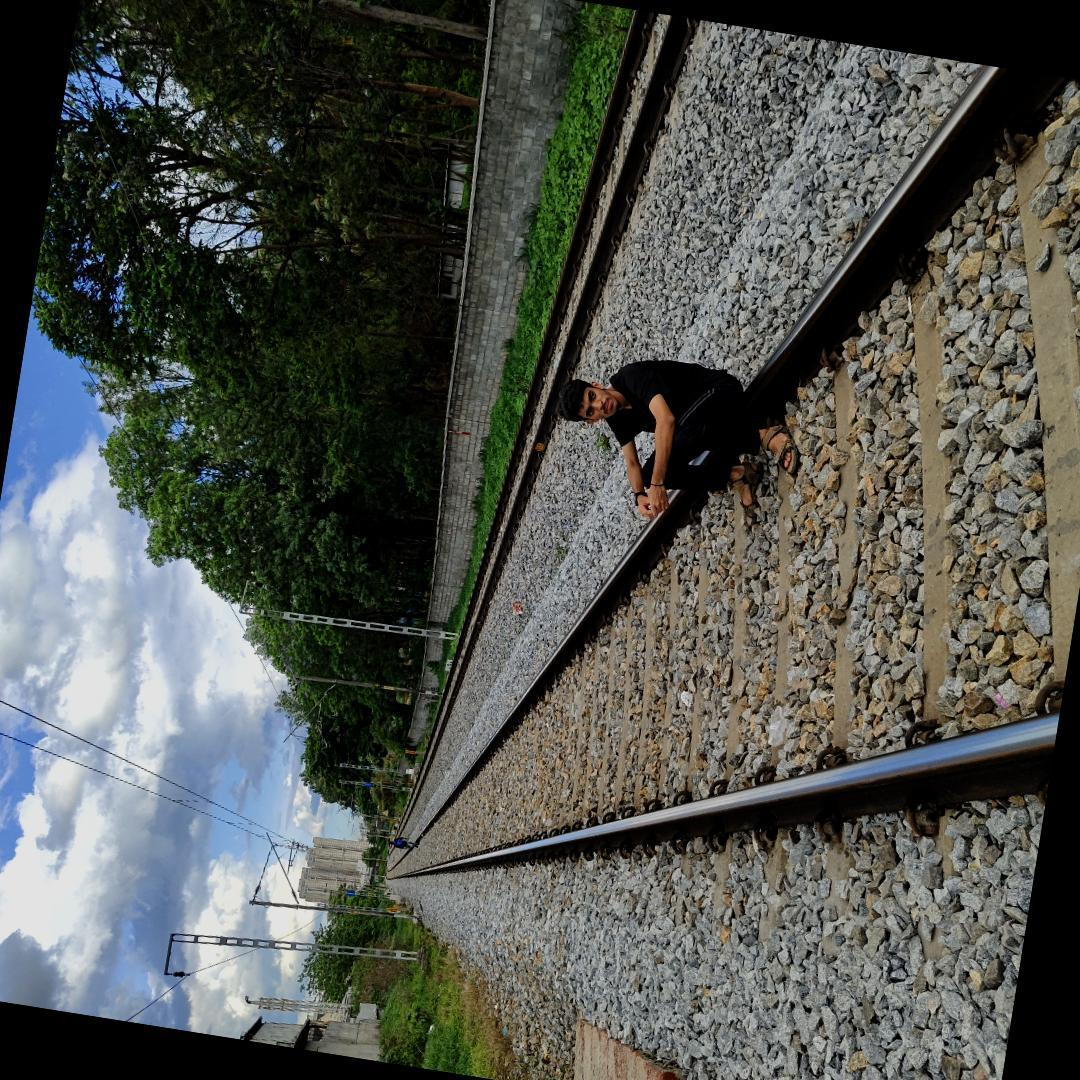sitting: (530, 323, 818, 530)
